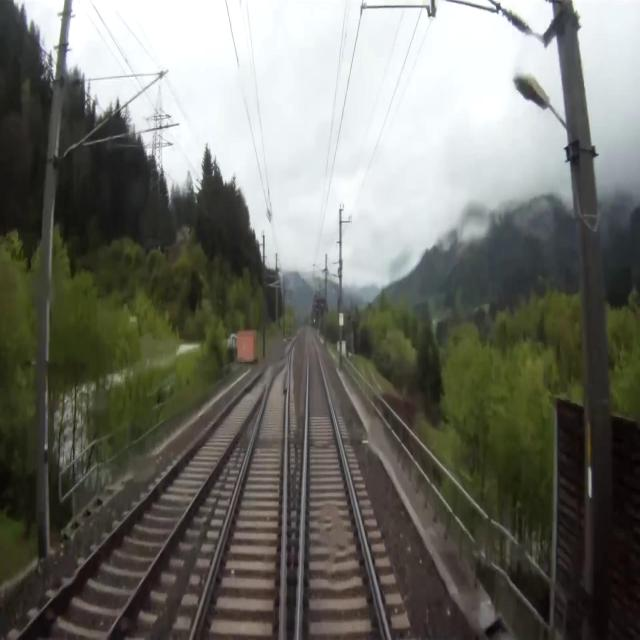rail-track: (21, 341, 292, 639), (300, 332, 386, 639), (194, 357, 287, 639)
